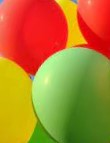Balloon: (31, 47, 110, 143), (1, 1, 67, 70), (1, 61, 37, 143)
